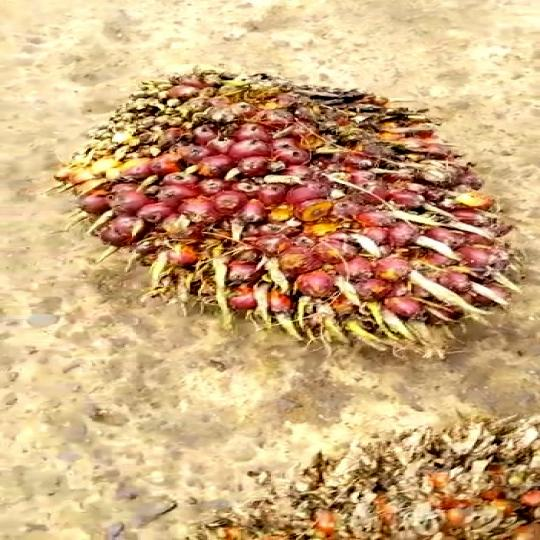masak: (75, 60, 520, 379)
